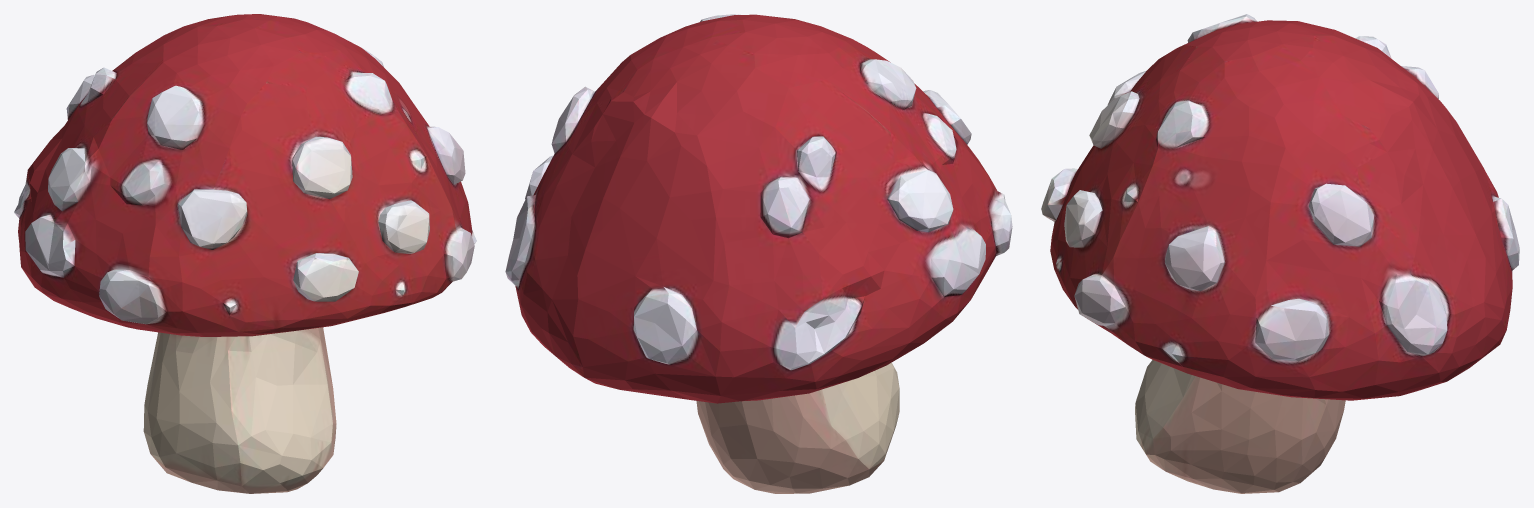
File: mushroom_item.glb
The picture shows the model from 3 angles, left to right: view 1: azimuth 30°, elevation 25°; view 2: azimuth 150°, elevation 25°; view 3: azimuth 270°, elevation 25°; orthographic projection. The views are drawn at different scales.
Visible parts, largest first — view 1: tmp4ktnr06v.ply; view 2: tmp4ktnr06v.ply; view 3: tmp4ktnr06v.ply.
Part boxes in pixels (<box>): tmp4ktnr06v.ply: <box>14,14,476,493</box>; tmp4ktnr06v.ply: <box>505,14,1012,493</box>; tmp4ktnr06v.ply: <box>1041,14,1519,493</box>.
Bounding box in the file's own units: 1.99 × 1.99 × 1.93.
1 material, 1 textured.
